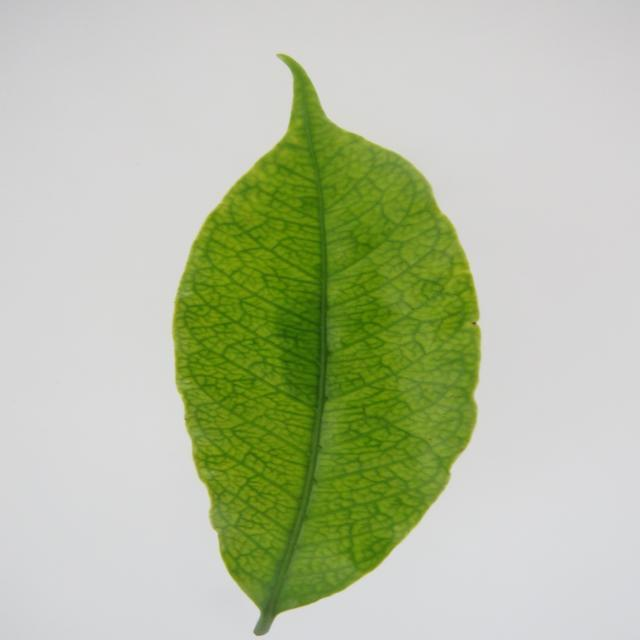DeficienciaNutricional-Hierro: (173, 55, 480, 635)
